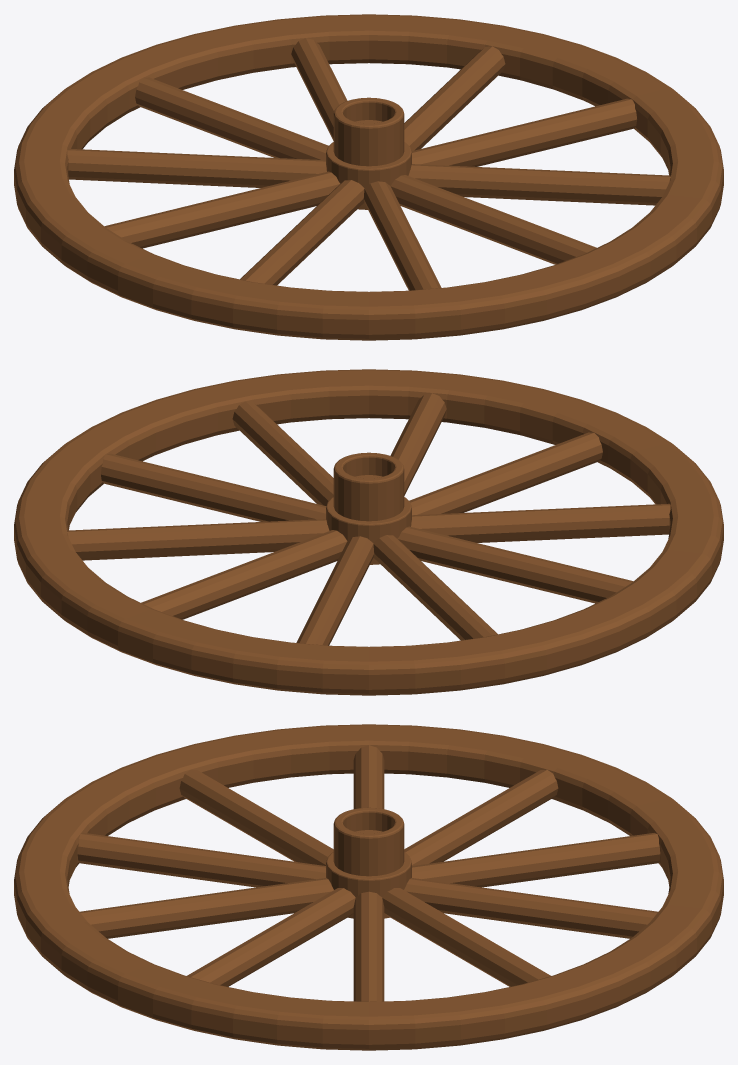
Rendered from wheel.fbx.
3 renders of one model, top to bottom at view 1: azimuth 30°, elevation 25°; view 2: azimuth 150°, elevation 25°; view 3: azimuth 270°, elevation 25°, orthographic.
Parts seen in each view (by area): view 1: Torus.002; view 2: Torus.002; view 3: Torus.002.
Boxes of the visible parts, <box> form: Torus.002: <box>14,14,723,340</box>; Torus.002: <box>14,369,723,695</box>; Torus.002: <box>14,724,723,1050</box>.
Size of the model in its own units: 198 by 25.29 by 198.
